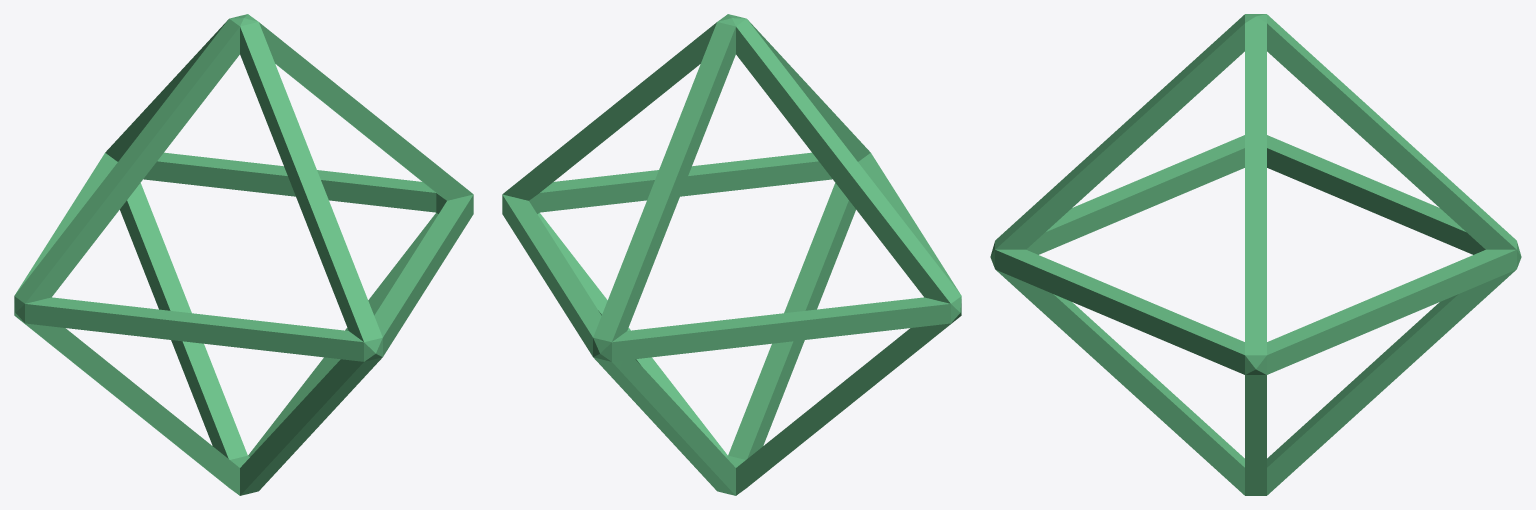
File: OCTA_01.fbx
The picture shows the model from 3 angles, left to right: view 1: azimuth 30°, elevation 25°; view 2: azimuth 150°, elevation 25°; view 3: azimuth 270°, elevation 25°; orthographic projection.
Visible parts, largest first — view 1: OCTA_FINAL; view 2: OCTA_FINAL; view 3: OCTA_FINAL.
Boxes of the visible parts, box(x1,y1,x2,y2) form: OCTA_FINAL: box(14, 14, 473, 495); OCTA_FINAL: box(502, 14, 961, 495); OCTA_FINAL: box(990, 14, 1521, 495).
Bounding box in the file's own units: 0.0335 × 0.0331 × 0.0335.
